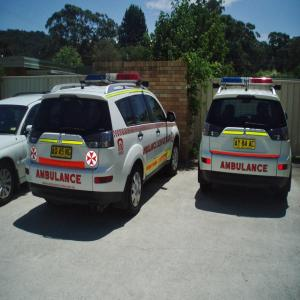Vehicle-registration-plate: (51, 146, 74, 161), (236, 139, 257, 149)
